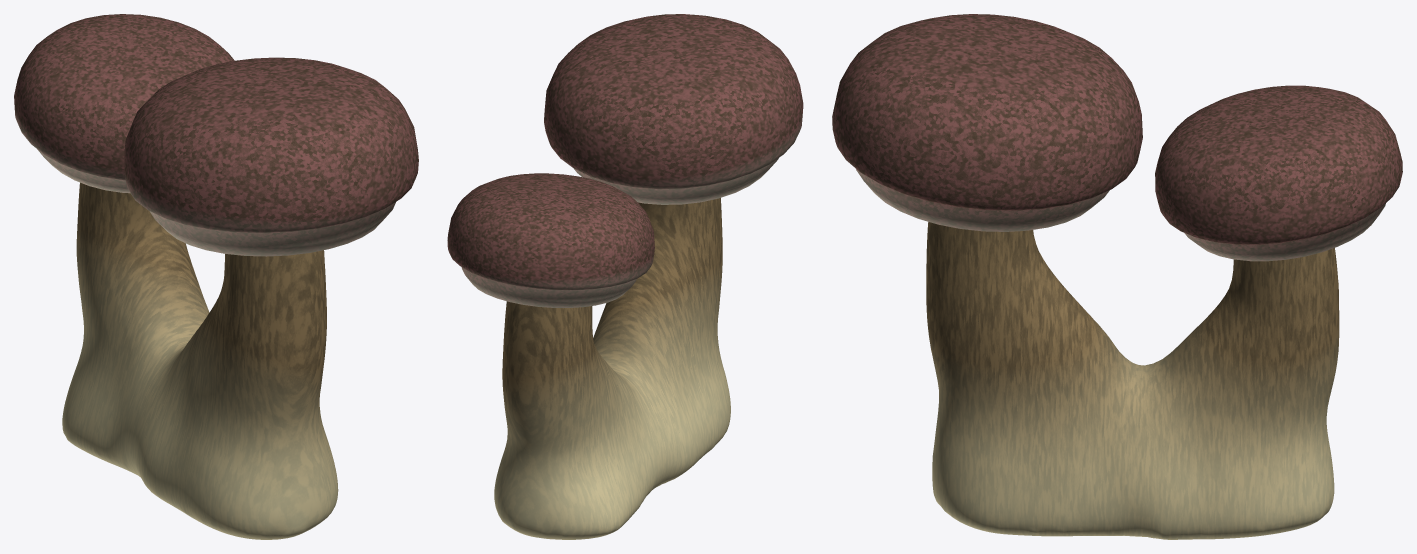
File: double_grib.fbx
3 views of the same model, side by side, from view 1: azimuth 30°, elevation 25°; view 2: azimuth 150°, elevation 25°; view 3: azimuth 270°, elevation 25° (orthographic). The views are drawn at different scales.
Visible parts, largest first — view 1: Cylinder.012; view 2: Cylinder.012; view 3: Cylinder.012.
Boxes of the visible parts, box(x1,y1,x2,y2) form: Cylinder.012: box(14, 14, 418, 539); Cylinder.012: box(447, 14, 803, 539); Cylinder.012: box(832, 14, 1402, 539).
Size of the model in its own units: 511 by 859 by 944.
